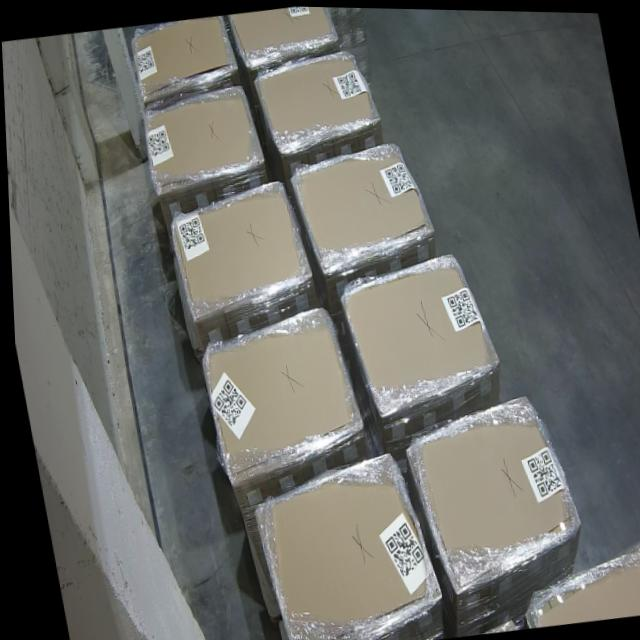pallet: (250, 449, 437, 640), (400, 391, 576, 592), (197, 303, 359, 475), (337, 253, 495, 416), (165, 178, 310, 322), (291, 137, 431, 270), (138, 83, 264, 198), (263, 45, 384, 159), (128, 15, 236, 106), (227, 5, 338, 66)
